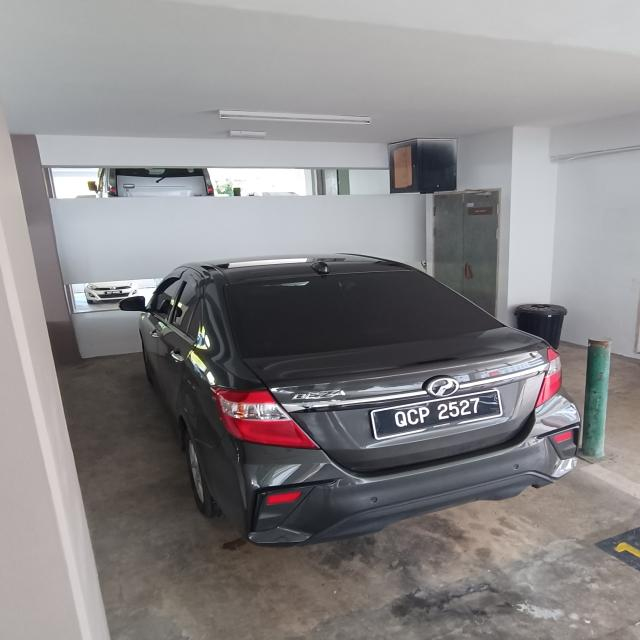PeroduaBezza: (118, 252, 583, 548)
